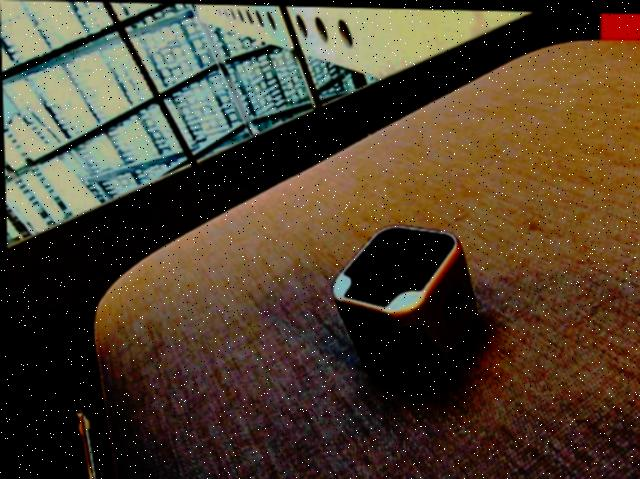adapter: (328, 221, 478, 389)
